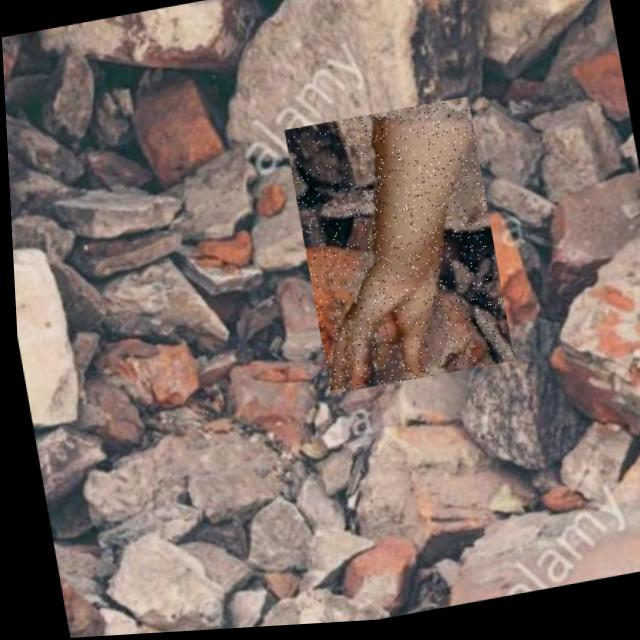Person in Rubble: (282, 100, 510, 399)
